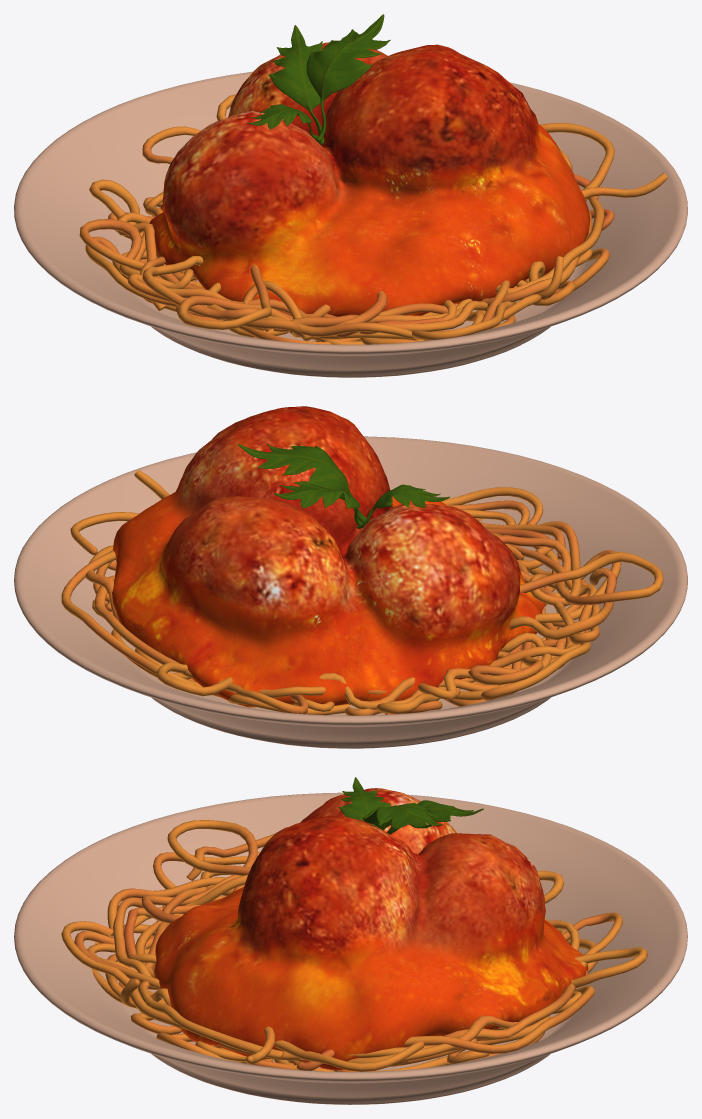
Rendered from Pasta.glb.
3 renders of one model, top to bottom at view 1: azimuth 30°, elevation 25°; view 2: azimuth 150°, elevation 25°; view 3: azimuth 270°, elevation 25°, orthographic.
Visible parts, largest first — view 1: pasta.1; view 2: pasta.1; view 3: pasta.1.
Part boxes in pixels (x1,y1,x2,y2): pasta.1: (14, 14, 687, 377); pasta.1: (14, 406, 687, 748); pasta.1: (14, 777, 687, 1104).
Bounding box in the file's own units: 0.3256 × 0.1187 × 0.3256.
Materials: 1 (1 with a texture image).
